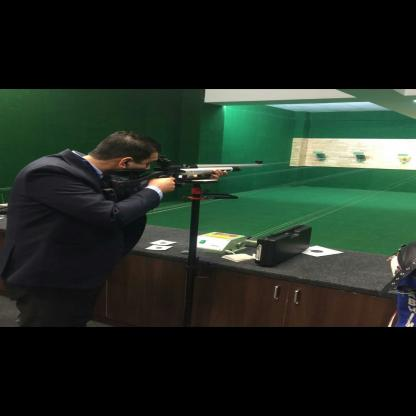rifle: (100, 155, 264, 204)
